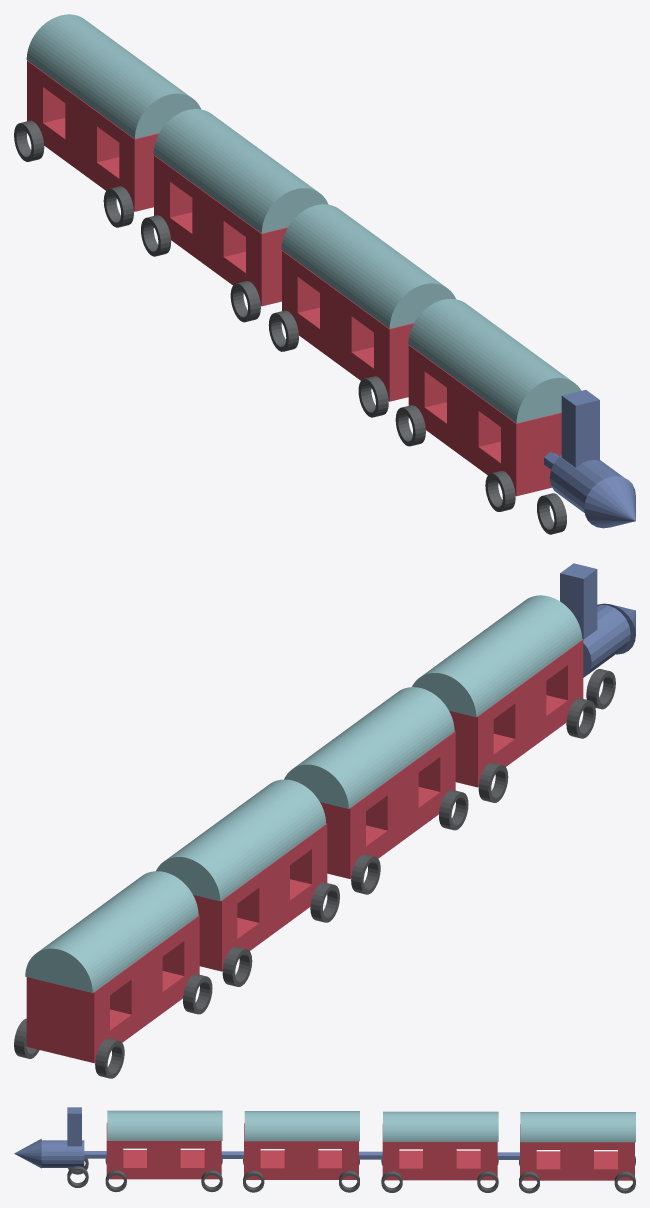
The model's file is Train.glb.
The picture shows the model from 3 angles, top to bottom: view 1: azimuth 30°, elevation 25°; view 2: azimuth 150°, elevation 25°; view 3: azimuth 270°, elevation 25°; orthographic projection. The views are drawn at different scales.
Parts seen in each view (by area): view 1: Mesh_Mesh_head_geo.001_lambert2SG.001; view 2: Mesh_Mesh_head_geo.001_lambert2SG.001; view 3: Mesh_Mesh_head_geo.001_lambert2SG.001.
Part boxes in pixels (x1,y1,x2,y2): Mesh_Mesh_head_geo.001_lambert2SG.001: (14,14,635,534); Mesh_Mesh_head_geo.001_lambert2SG.001: (14,563,635,1078); Mesh_Mesh_head_geo.001_lambert2SG.001: (14,1107,635,1193).
Bounding box in the file's own units: 28.5 × 36 × 292.
